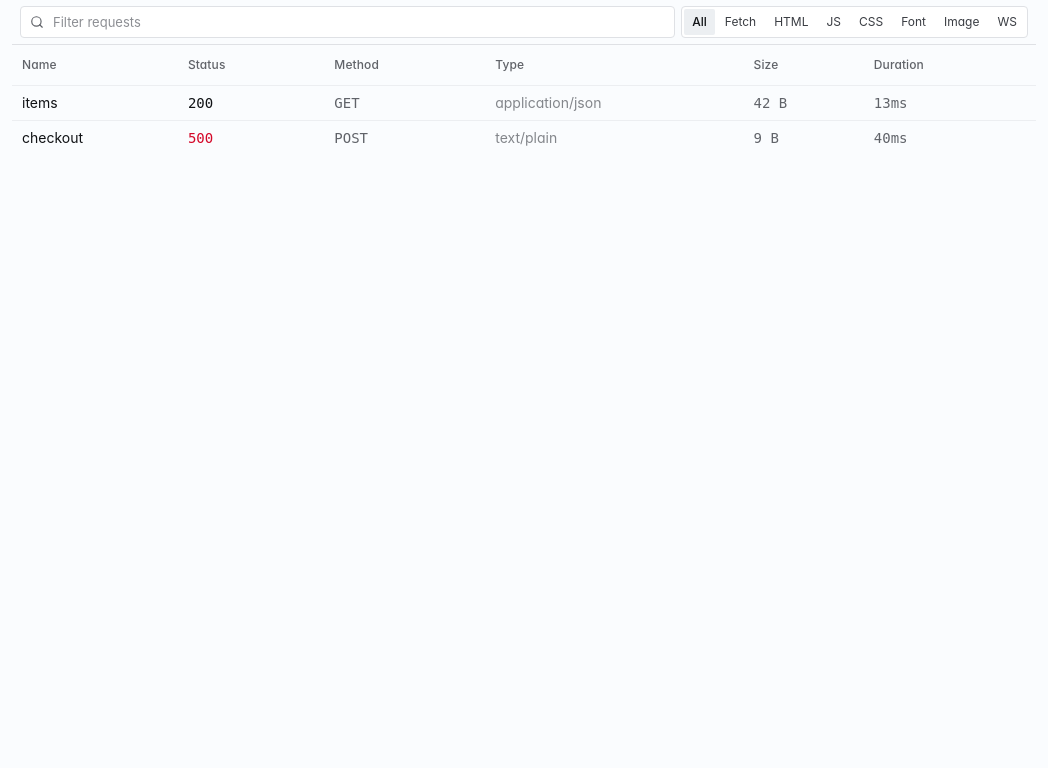
Test: NetworkTab › resolves and pretty-prints a JSON response body via the bridge
Click the button "items" at (95, 102), box [22,96,168,110]
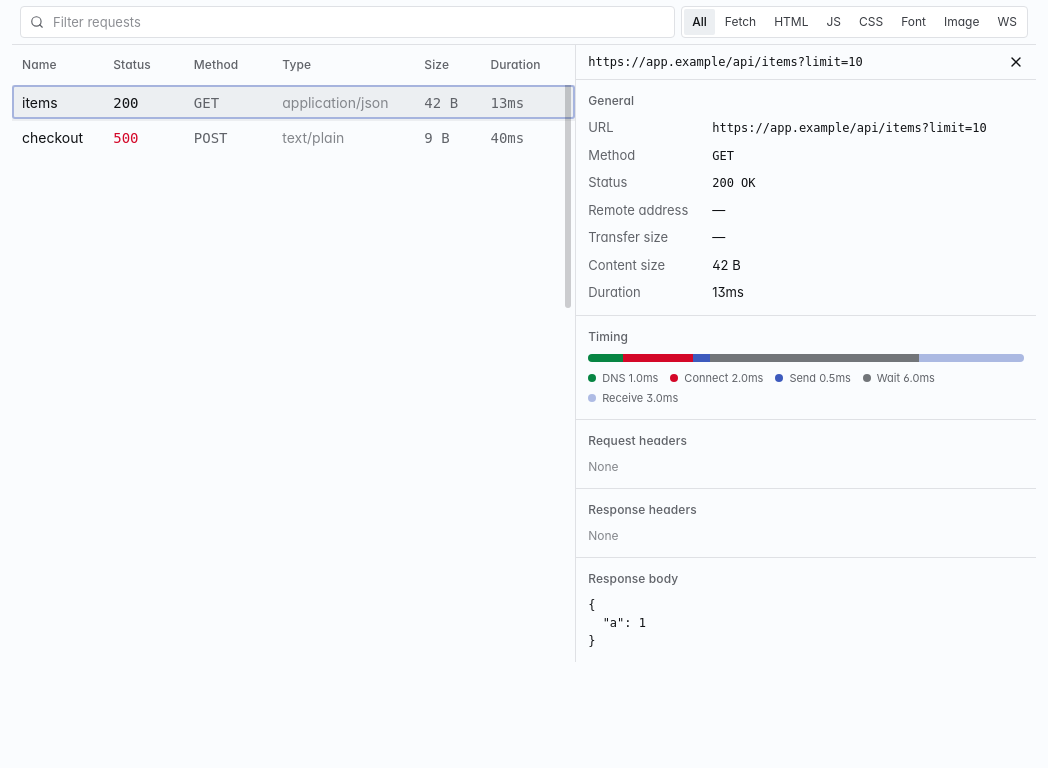
Now the text "{ \"a\": 1 }" is shown, box [588,598,646,648]
